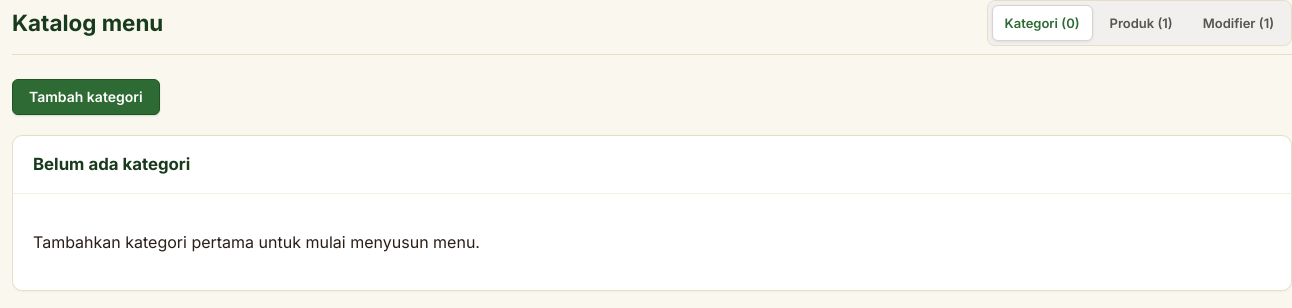
Test: CatalogPage › blocks product creation when no category exists
Check: the heading "Belum ada kategori" is shown, box x1=33 y1=152 x2=190 y2=177
Step 1. Click the tab "Produk (1)" → [1141, 23], box x1=1097 y1=5 x2=1186 y2=41
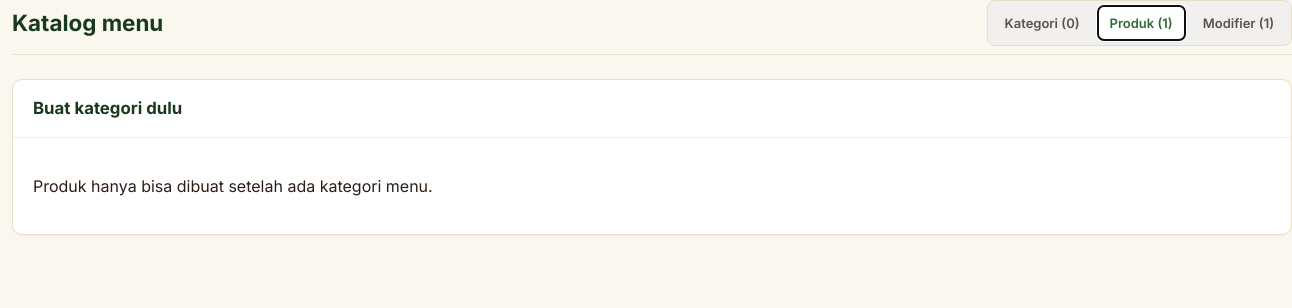
Check: the heading "Buat kategori dulu" is shown, box x1=33 y1=96 x2=182 y2=121
